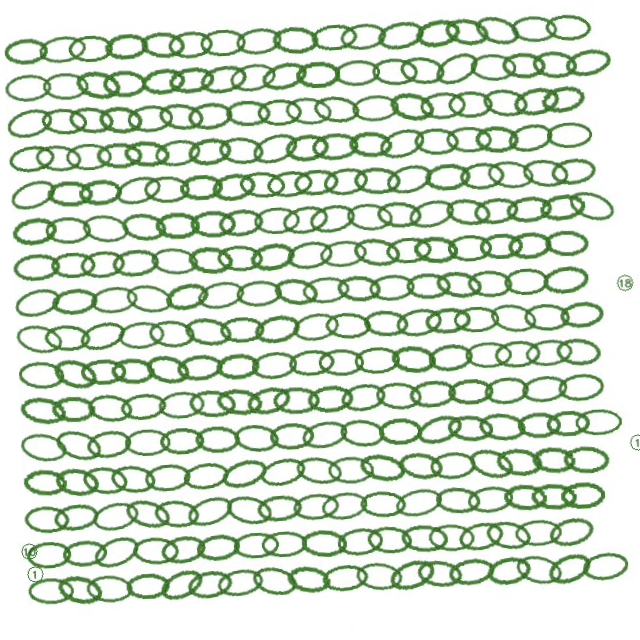chain: (442, 53, 494, 96), (570, 198, 623, 239), (47, 414, 100, 455), (80, 522, 133, 563), (145, 558, 196, 599), (484, 19, 536, 59), (459, 451, 511, 491), (48, 343, 99, 383), (533, 559, 584, 599), (13, 163, 65, 202), (257, 127, 308, 166), (114, 487, 165, 526), (176, 487, 227, 526), (375, 559, 426, 598), (384, 128, 436, 166), (409, 416, 460, 454), (502, 560, 553, 598), (13, 92, 64, 129), (119, 164, 170, 201), (13, 272, 64, 309), (13, 308, 64, 345), (77, 308, 128, 345), (488, 308, 539, 345), (212, 452, 263, 489), (350, 452, 401, 489), (215, 488, 266, 525), (396, 92, 446, 129), (141, 344, 191, 381), (43, 560, 93, 597), (238, 560, 288, 597), (411, 201, 462, 237), (125, 273, 176, 309), (13, 417, 64, 453), (270, 57, 320, 93), (390, 165, 440, 201), (354, 237, 405, 272), (182, 309, 233, 344), (455, 21, 504, 57), (84, 57, 133, 93), (474, 525, 523, 561), (14, 381, 64, 416), (251, 453, 301, 488), (287, 453, 337, 488), (537, 525, 587, 560), (385, 490, 436, 524), (241, 381, 290, 416), (390, 453, 439, 488), (388, 22, 438, 56), (209, 58, 259, 92), (574, 58, 624, 92), (490, 94, 540, 128), (492, 166, 542, 200), (85, 202, 135, 236), (285, 202, 335, 236), (312, 202, 362, 236), (448, 202, 498, 236), (197, 274, 247, 308), (435, 274, 485, 308), (82, 490, 132, 524), (409, 58, 458, 92), (166, 94, 215, 128), (521, 94, 570, 128), (514, 130, 563, 164), (527, 166, 576, 200), (124, 202, 173, 236), (164, 274, 213, 308), (273, 274, 322, 308), (252, 310, 301, 344), (295, 418, 344, 452), (46, 454, 95, 488), (273, 562, 322, 596), (404, 562, 453, 596), (293, 94, 343, 127), (394, 310, 444, 343), (472, 418, 522, 451), (343, 562, 393, 595), (447, 526, 495, 560), (239, 58, 288, 91), (76, 94, 125, 127), (321, 94, 370, 127), (288, 238, 337, 271), (291, 310, 340, 343), (211, 382, 260, 415), (102, 454, 151, 487), (488, 454, 537, 487), (152, 239, 202, 271), (204, 563, 254, 595), (426, 22, 474, 55), (549, 94, 597, 127), (251, 238, 299, 271), (82, 382, 130, 415), (333, 418, 381, 451), (74, 454, 122, 487), (474, 562, 522, 595), (41, 131, 90, 163), (371, 383, 420, 415), (227, 419, 276, 451), (175, 455, 224, 487), (149, 527, 198, 559), (174, 563, 223, 595), (542, 59, 590, 91), (106, 95, 154, 127), (161, 131, 209, 163), (225, 131, 273, 163), (216, 167, 264, 199), (350, 203, 398, 235), (189, 239, 237, 271), (147, 311, 195, 343), (553, 347, 601, 379), (441, 419, 489, 451), (144, 491, 192, 523), (50, 23, 99, 54), (244, 167, 293, 198), (184, 383, 233, 414), (390, 527, 439, 558), (388, 347, 435, 379), (336, 383, 383, 415), (49, 95, 97, 126), (15, 131, 63, 162), (130, 131, 178, 162), (380, 203, 428, 234), (543, 203, 591, 234), (543, 275, 591, 306), (362, 311, 410, 342), (15, 347, 63, 378), (44, 491, 92, 522), (312, 491, 360, 522), (426, 491, 474, 522), (356, 527, 404, 558), (436, 563, 484, 594), (570, 563, 618, 594), (480, 60, 529, 90), (248, 348, 297, 378), (517, 384, 566, 414), (458, 492, 507, 522), (152, 23, 199, 54), (194, 131, 241, 162), (328, 167, 375, 198), (15, 203, 62, 234), (415, 239, 462, 270), (337, 275, 384, 306), (80, 419, 127, 450), (15, 455, 62, 486), (524, 455, 571, 486), (494, 491, 541, 522), (247, 24, 295, 54), (352, 24, 400, 54), (523, 24, 571, 54), (178, 60, 226, 90), (382, 60, 430, 90), (359, 168, 407, 198), (556, 168, 604, 198), (477, 204, 525, 234), (219, 240, 267, 270), (322, 240, 370, 270), (91, 276, 139, 306), (43, 312, 91, 342), (117, 312, 165, 342), (523, 312, 571, 342), (425, 348, 473, 378), (523, 348, 571, 378), (116, 384, 164, 414), (351, 492, 399, 522), (290, 528, 338, 558), (326, 528, 374, 558), (74, 564, 122, 594), (310, 564, 358, 594), (284, 24, 331, 54), (557, 24, 604, 54), (151, 60, 198, 90), (196, 96, 243, 126), (355, 132, 402, 162), (272, 168, 319, 198), (222, 204, 269, 234), (510, 204, 557, 234), (52, 276, 99, 306), (324, 312, 371, 342), (556, 456, 603, 486), (15, 492, 62, 522), (522, 492, 569, 522), (122, 528, 169, 558), (185, 528, 232, 558), (418, 528, 465, 558), (15, 240, 63, 269), (114, 240, 162, 269), (303, 276, 351, 305), (286, 348, 334, 377), (154, 384, 202, 413), (405, 384, 453, 413), (137, 456, 185, 485), (284, 492, 332, 521), (512, 60, 558, 90), (292, 132, 338, 162), (482, 132, 528, 162), (468, 276, 514, 306), (108, 348, 154, 378), (323, 24, 370, 53), (234, 96, 281, 125), (421, 132, 468, 161), (453, 132, 500, 161), (149, 168, 196, 197), (299, 168, 346, 197), (430, 168, 477, 197), (82, 240, 129, 269), (388, 240, 435, 269), (424, 312, 471, 341), (174, 348, 221, 377), (492, 348, 539, 377), (480, 384, 527, 413), (554, 384, 601, 413), (189, 420, 236, 449), (248, 492, 295, 521), (15, 61, 63, 89), (116, 24, 162, 53), (510, 240, 556, 269), (547, 240, 593, 269), (559, 312, 605, 341), (47, 384, 93, 413), (136, 97, 183, 125), (361, 97, 408, 125), (103, 133, 150, 161), (319, 133, 366, 161), (52, 169, 99, 197), (465, 169, 512, 197), (49, 205, 96, 233), (269, 385, 316, 413), (303, 385, 350, 413), (423, 457, 470, 485), (53, 61, 99, 89), (345, 61, 391, 89), (429, 97, 475, 125), (457, 97, 503, 125), (194, 205, 240, 233), (237, 277, 283, 305), (370, 277, 416, 305), (407, 277, 453, 305), (213, 349, 259, 377), (316, 349, 362, 377), (321, 457, 367, 485), (52, 529, 98, 557), (16, 565, 62, 593), (453, 313, 500, 340), (463, 349, 510, 376), (119, 421, 166, 448), (570, 421, 617, 448), (251, 529, 298, 556), (505, 529, 552, 556), (16, 25, 61, 53), (180, 25, 225, 53), (113, 61, 158, 89), (84, 169, 129, 197), (159, 205, 204, 233), (512, 421, 557, 449), (80, 25, 126, 52), (212, 25, 258, 52), (266, 97, 312, 124), (73, 133, 119, 160), (554, 133, 600, 160), (258, 205, 304, 232), (53, 241, 99, 268), (505, 277, 551, 304), (219, 313, 265, 340), (78, 349, 124, 376), (352, 349, 398, 376), (444, 385, 490, 412), (154, 421, 200, 448), (264, 421, 310, 448), (223, 529, 269, 556), (306, 61, 351, 88), (185, 169, 230, 196), (450, 241, 495, 268), (482, 241, 527, 268), (373, 421, 418, 448), (541, 421, 586, 448), (552, 493, 597, 520), (16, 529, 61, 556), (114, 565, 159, 592)
noise: (9, 528, 29, 548), (616, 286, 636, 306), (14, 551, 34, 571), (622, 446, 640, 466)
